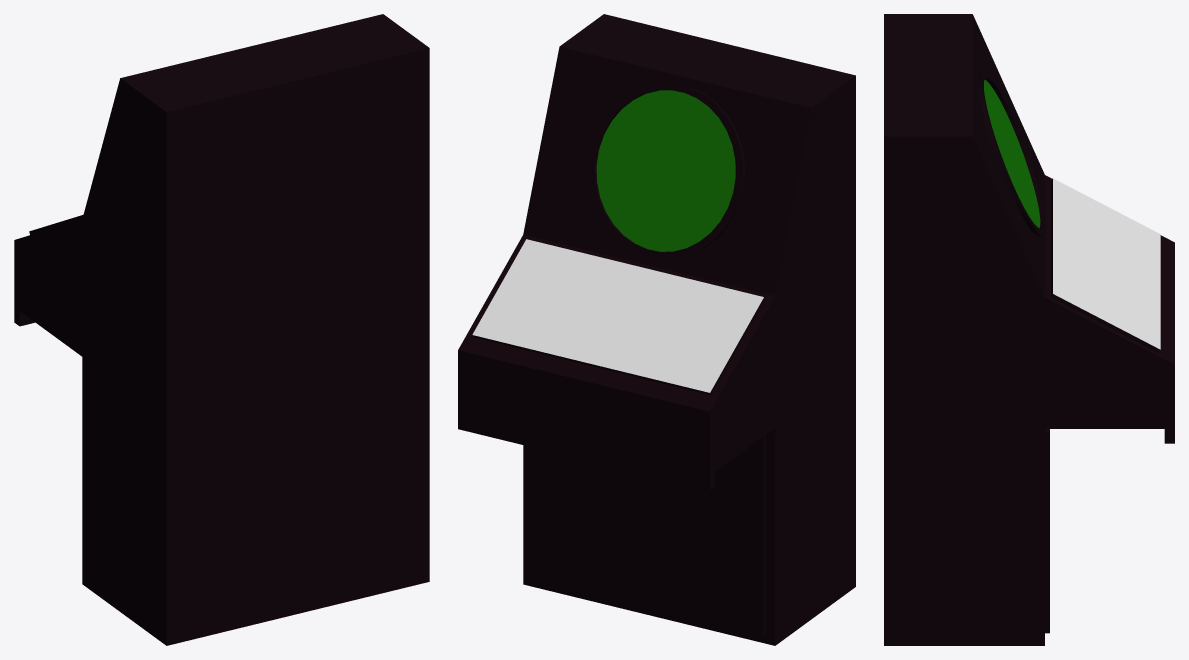
File: Radar.fbx
The picture shows the model from 3 angles, left to right: view 1: azimuth 30°, elevation 25°; view 2: azimuth 150°, elevation 25°; view 3: azimuth 270°, elevation 25°; orthographic projection. The views are drawn at different scales.
Visible parts, largest first — view 1: Radar; view 2: Radar; view 3: Radar.
Part boxes in pixels (x1,y1,x2,y2): Radar: (14,14,429,645); Radar: (458,14,855,645); Radar: (884,14,1174,645).
Bounding box in the file's own units: 295 × 572 × 296.
